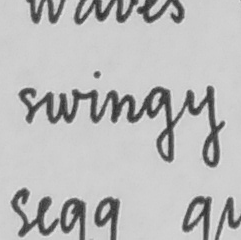g: (142, 84, 178, 166)
i: (86, 69, 105, 125)
n: (107, 91, 136, 125)
s: (15, 84, 39, 125)
w: (42, 86, 82, 126)
y: (184, 83, 221, 169)
